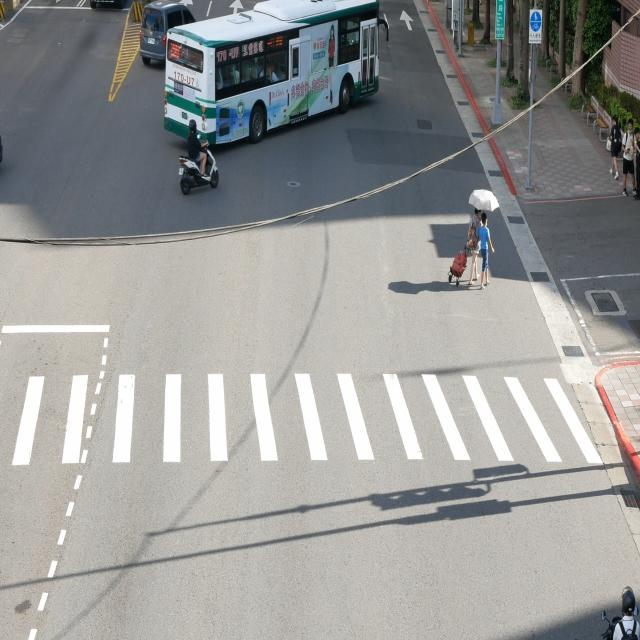pedestrian: (466, 210, 480, 252)
